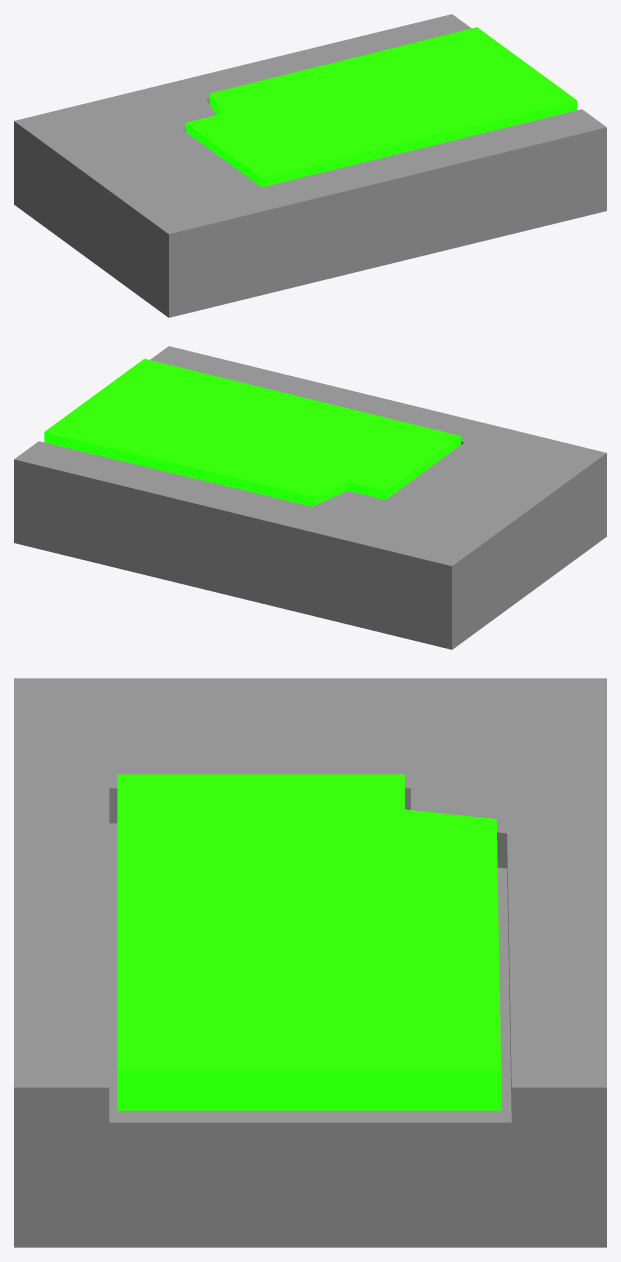
The model's file is chip.fbx.
3 views of the same model, one above another, from view 1: azimuth 30°, elevation 25°; view 2: azimuth 150°, elevation 25°; view 3: azimuth 270°, elevation 25° (orthographic). The views are drawn at different scales.
Visible parts, largest first — view 1: Cube, Cube.002; view 2: Cube, Cube.002; view 3: Cube, Cube.002.
Boxes of the visible parts, x1,y1,x2,y2 form: Cube: (14, 14, 606, 317); Cube.002: (185, 27, 577, 187); Cube: (14, 346, 606, 649); Cube.002: (44, 358, 460, 506); Cube: (14, 678, 606, 1247); Cube.002: (117, 774, 501, 1110).
Bounding box in the file's own units: 24.31 × 4.85 × 14.88.
